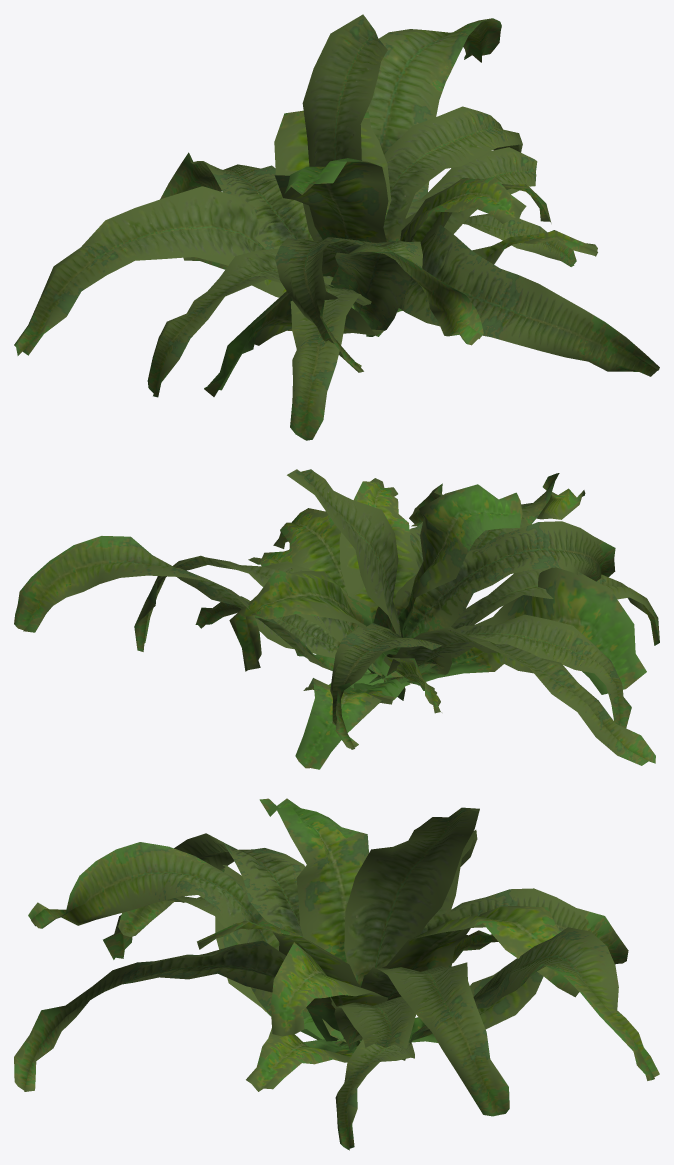
The model's file is fern.glb.
3 views of the same model, one above another, from view 1: azimuth 30°, elevation 25°; view 2: azimuth 150°, elevation 25°; view 3: azimuth 270°, elevation 25° (orthographic). The views are drawn at different scales.
Visible parts, largest first — view 1: fern_02_b; view 2: fern_02_b; view 3: fern_02_b.
Boxes of the visible parts, x1,y1,x2,y2 form: fern_02_b: (14, 14, 659, 440); fern_02_b: (14, 469, 659, 769); fern_02_b: (14, 798, 659, 1150).
Size of the model in its own units: 2.31 by 1 by 2.09.
1 material, 1 textured.
